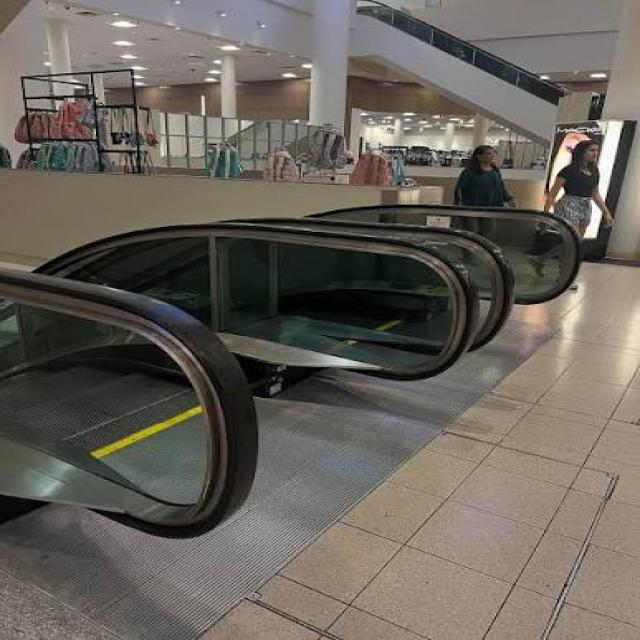escalator: (2, 218, 482, 639)
